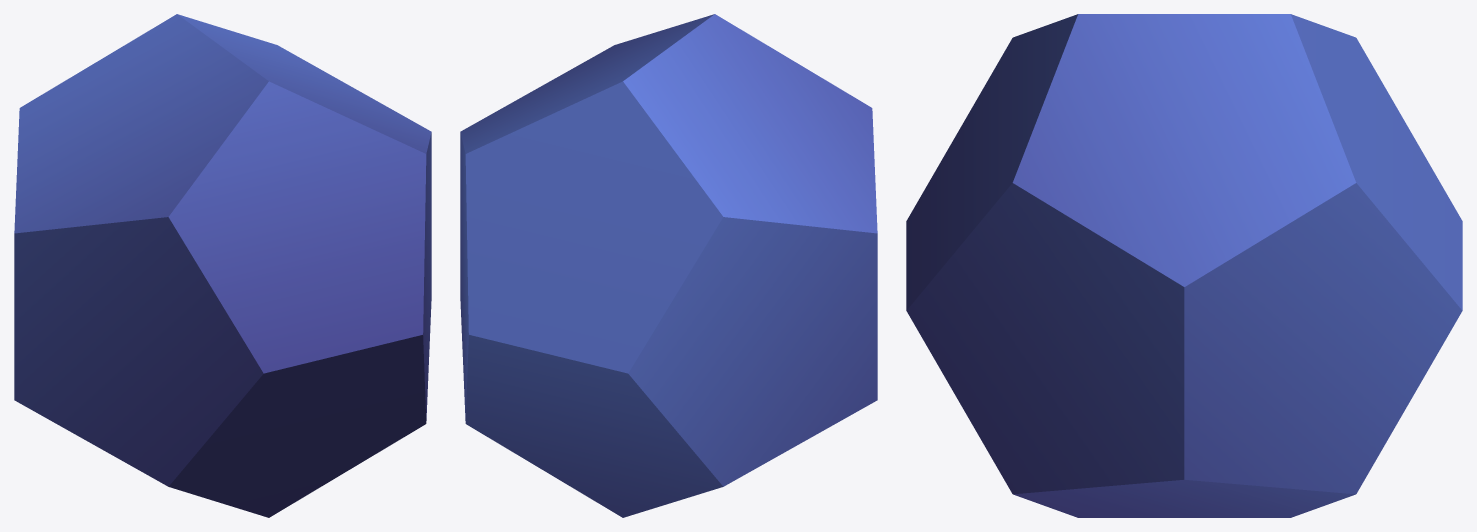
File: Dodecahedron.glb
The picture shows the model from 3 angles, left to right: view 1: azimuth 30°, elevation 25°; view 2: azimuth 150°, elevation 25°; view 3: azimuth 270°, elevation 25°; orthographic projection. The views are drawn at different scales.
Parts seen in each view (by area): view 1: Dodecahedron; view 2: Dodecahedron; view 3: Dodecahedron.
Boxes of the visible parts, x1,y1,x2,y2 form: Dodecahedron: [14, 14, 431, 517]; Dodecahedron: [460, 14, 877, 517]; Dodecahedron: [906, 14, 1462, 517].
Size of the model in its own units: 1.71 by 1.71 by 1.71.
1 material, 1 textured.
